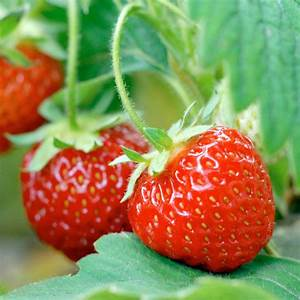Fresa: (120, 121, 286, 279), (14, 108, 157, 264)
